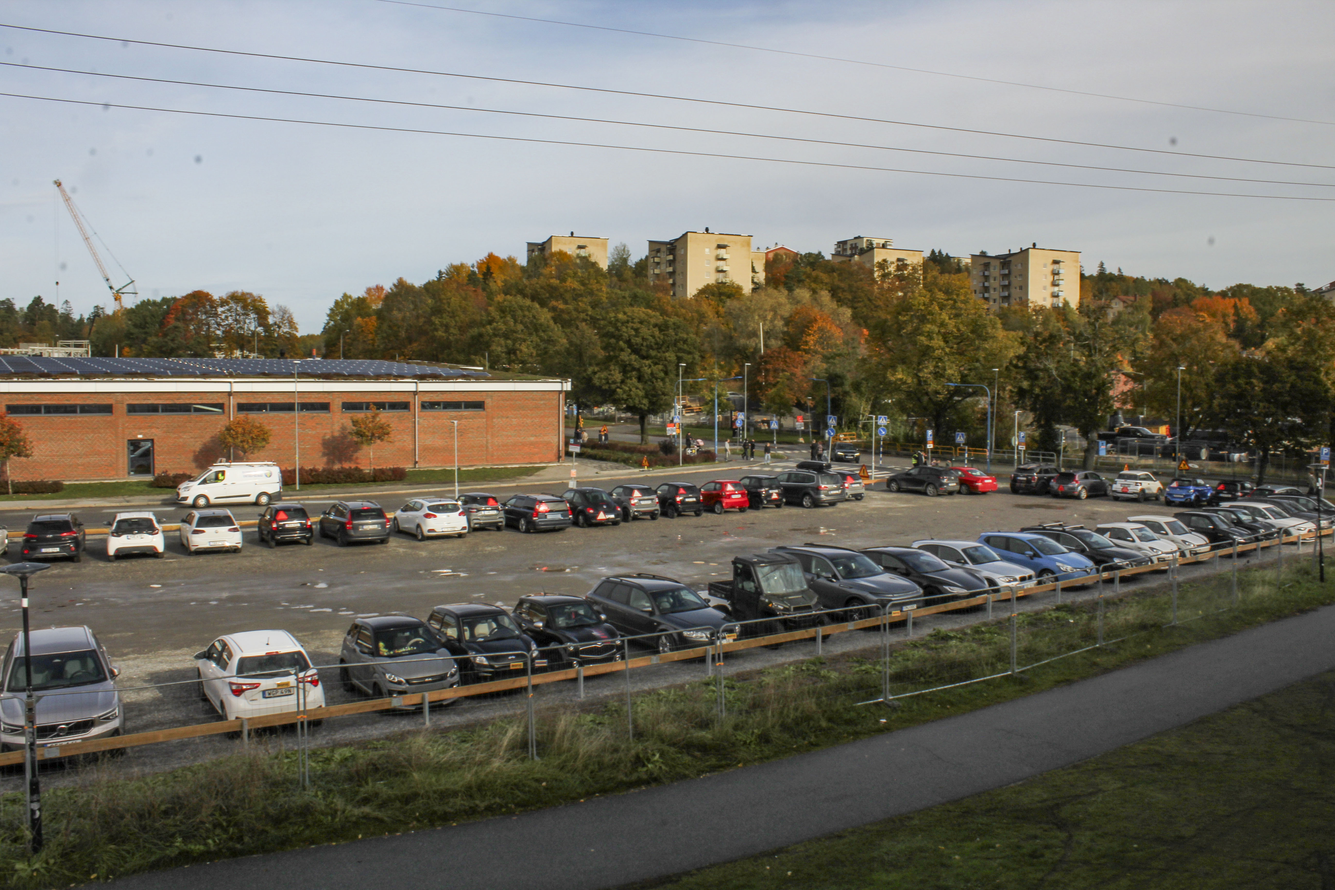Car: (0, 621, 128, 750), (175, 635, 328, 719), (341, 613, 463, 703), (600, 575, 742, 652), (821, 545, 929, 618), (733, 551, 829, 632), (519, 592, 621, 667), (449, 602, 541, 683), (889, 547, 995, 606), (1022, 527, 1155, 573), (934, 537, 1042, 589), (178, 463, 287, 503), (23, 506, 85, 566), (1030, 534, 1108, 580), (320, 496, 394, 542), (181, 498, 244, 550), (1099, 523, 1184, 561), (1228, 504, 1312, 542), (396, 496, 472, 537), (1129, 517, 1212, 554), (109, 507, 167, 559), (782, 462, 843, 508), (1169, 513, 1250, 543), (1206, 507, 1276, 541), (259, 499, 313, 542), (507, 492, 571, 528), (891, 466, 957, 497), (570, 488, 624, 522), (659, 479, 703, 517), (1108, 471, 1167, 498), (701, 477, 745, 513), (1050, 469, 1106, 496), (1010, 461, 1054, 494), (621, 483, 658, 519), (746, 474, 782, 508), (473, 496, 510, 529), (1164, 476, 1201, 506), (950, 469, 1000, 491), (1204, 478, 1251, 501), (1294, 505, 1333, 531), (1268, 493, 1335, 504), (838, 470, 864, 498), (1251, 486, 1300, 496), (0, 517, 8, 555)
